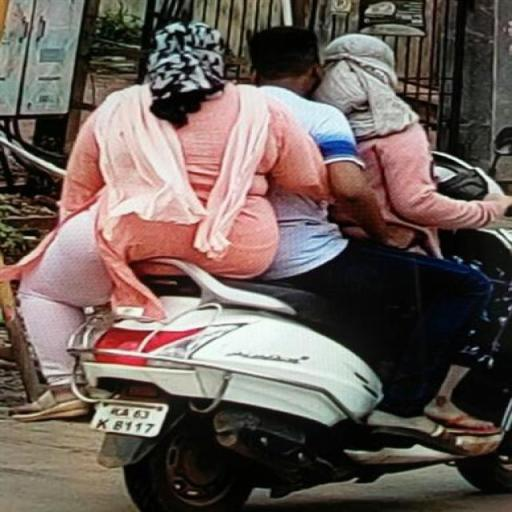tripple riding: (27, 15, 512, 260)
